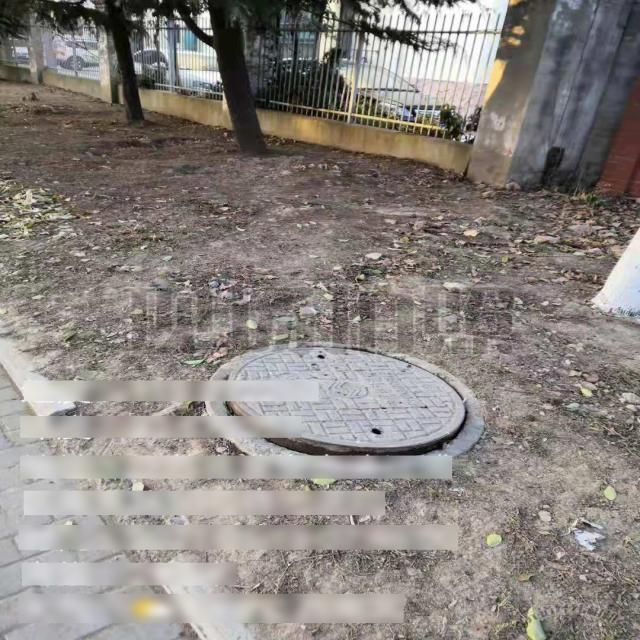Faulty: (207, 340, 483, 477)
